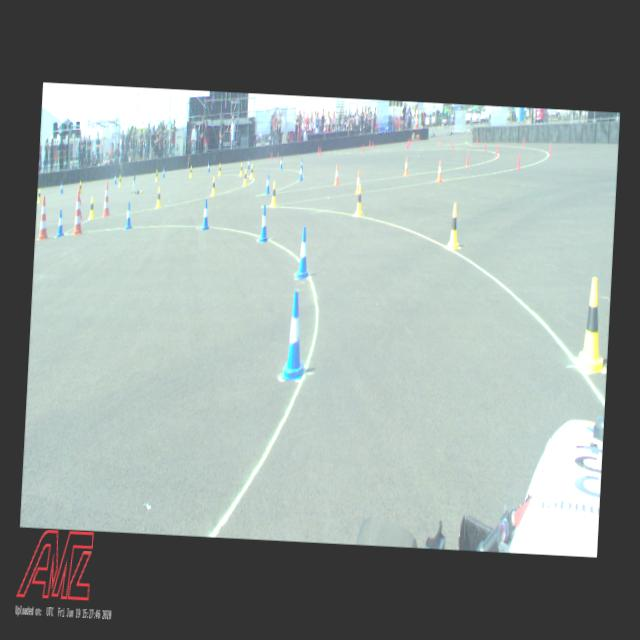blue_cone: (282, 290, 309, 379), (297, 226, 311, 279), (260, 205, 270, 242), (56, 210, 66, 238), (202, 200, 211, 230), (126, 202, 132, 229), (265, 174, 271, 194), (298, 164, 304, 182), (280, 157, 284, 169), (60, 182, 64, 194), (301, 158, 304, 173), (247, 158, 250, 170), (162, 166, 165, 178), (114, 173, 117, 184), (208, 162, 210, 172)
large_orange_cone: (39, 196, 50, 240), (74, 196, 84, 236), (103, 182, 111, 216), (78, 187, 84, 220)
orange_cone: (437, 160, 443, 182), (334, 166, 340, 186), (356, 171, 360, 194), (404, 158, 408, 176)
yellow_cone: (578, 276, 608, 371), (448, 204, 460, 250), (355, 184, 364, 217), (270, 182, 278, 206), (88, 197, 95, 220), (156, 188, 162, 208), (243, 169, 248, 186), (36, 189, 42, 203), (212, 178, 216, 196), (250, 164, 254, 179), (218, 163, 222, 176), (240, 162, 244, 175), (189, 166, 193, 178), (119, 175, 122, 187), (156, 170, 158, 182), (80, 182, 82, 194)
